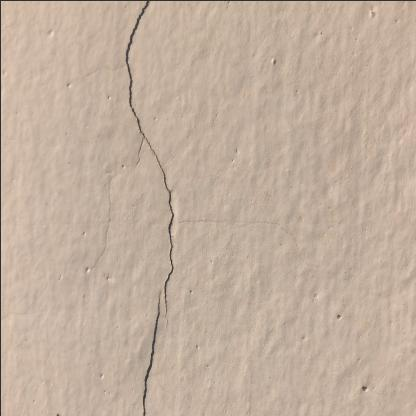crack: (125, 0, 173, 321), (142, 293, 159, 416)
